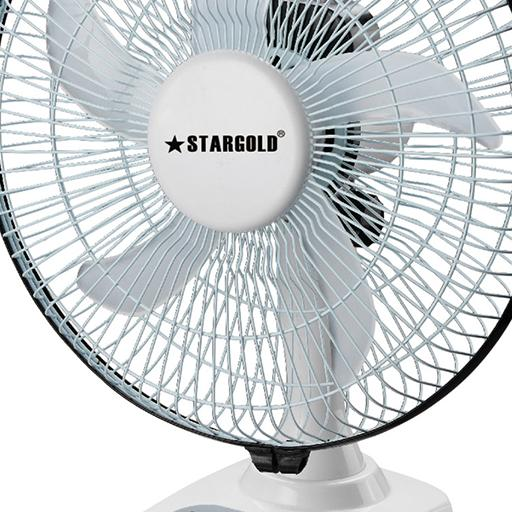Fan: (0, 0, 512, 450)
